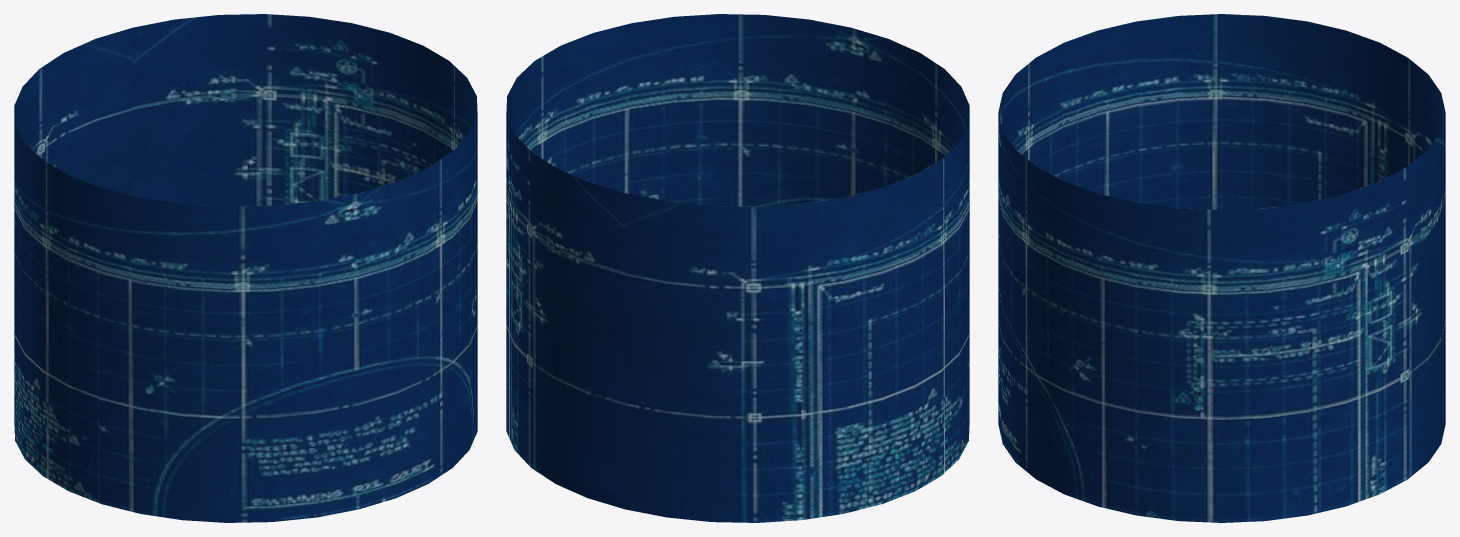
The model's file is Blueprint.fbx.
The picture shows the model from 3 angles, left to right: view 1: azimuth 30°, elevation 25°; view 2: azimuth 150°, elevation 25°; view 3: azimuth 270°, elevation 25°; orthographic projection.
Parts seen in each view (by area): view 1: Cylinder; view 2: Cylinder; view 3: Cylinder.
Part boxes in pixels (x1=…): Cylinder: x1=14, y1=14, x2=477, y2=522; Cylinder: x1=506, y1=14, x2=969, y2=522; Cylinder: x1=998, y1=14, x2=1445, y2=522.
Size of the model in its own units: 269 by 200 by 259.
